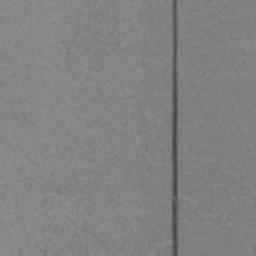Scratches: (171, 0, 179, 256)
